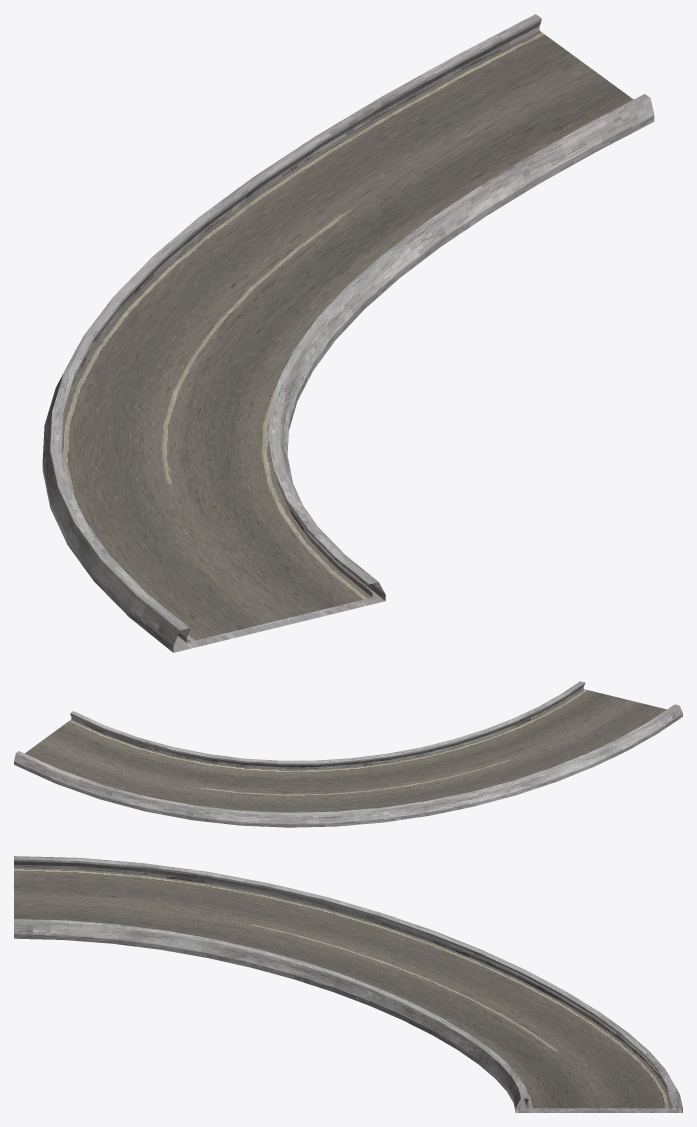
Rendered from road-Turn-Flat-BiSlopeUp-Up1-Right-Size4.glb.
3 renders of one model, top to bottom at view 1: azimuth 30°, elevation 25°; view 2: azimuth 150°, elevation 25°; view 3: azimuth 270°, elevation 25°, orthographic. The views are drawn at different scales.
Parts seen in each view (by area): view 1: road-Turn-Flat-BiSlopeUp-Up1-Right-Size4; view 2: road-Turn-Flat-BiSlopeUp-Up1-Right-Size4; view 3: road-Turn-Flat-BiSlopeUp-Up1-Right-Size4.
Part boxes in pixels (bbox=[...]): road-Turn-Flat-BiSlopeUp-Up1-Right-Size4: bbox=[42, 14, 654, 652]; road-Turn-Flat-BiSlopeUp-Up1-Right-Size4: bbox=[14, 681, 682, 827]; road-Turn-Flat-BiSlopeUp-Up1-Right-Size4: bbox=[14, 856, 682, 1112].
Size of the model in its own units: 4 by 0.4259 by 4.
2 materials, 2 textured.
